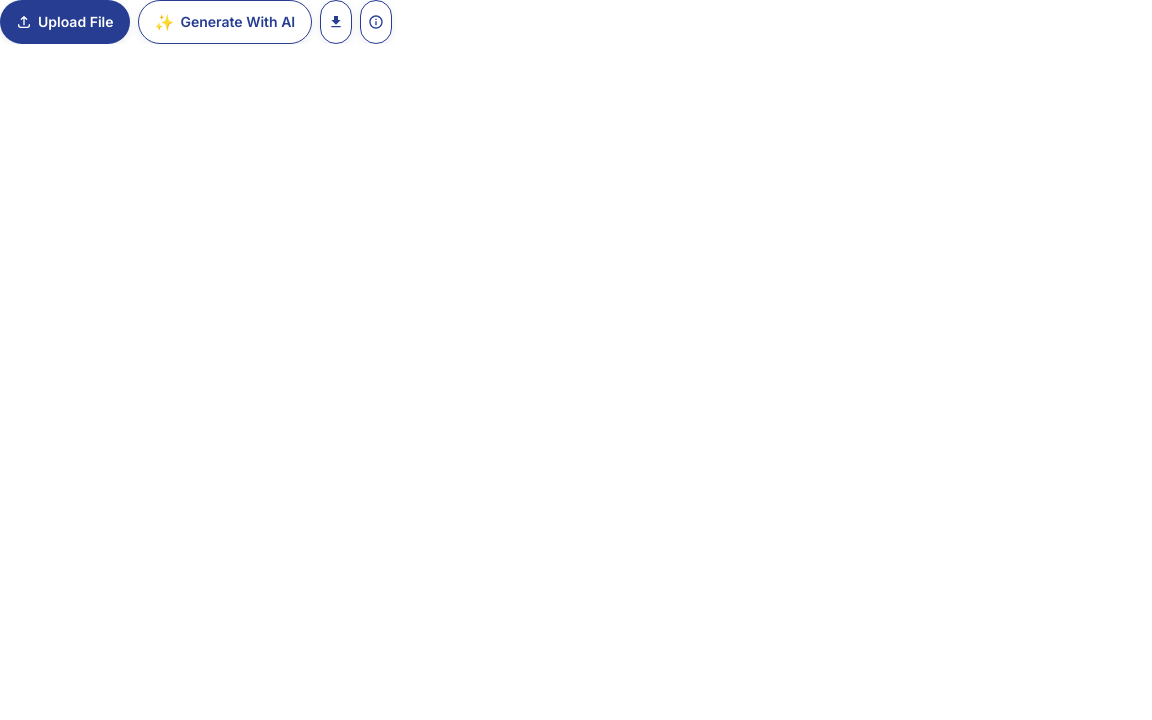
UploadAndGenerateHeader uploaded files › lists every file with its counts in a modal that can be closed
The width and height of the screenshot is (1152, 720).
Click the button named "View uploaded files" at (376, 22), box [360,0,392,44]
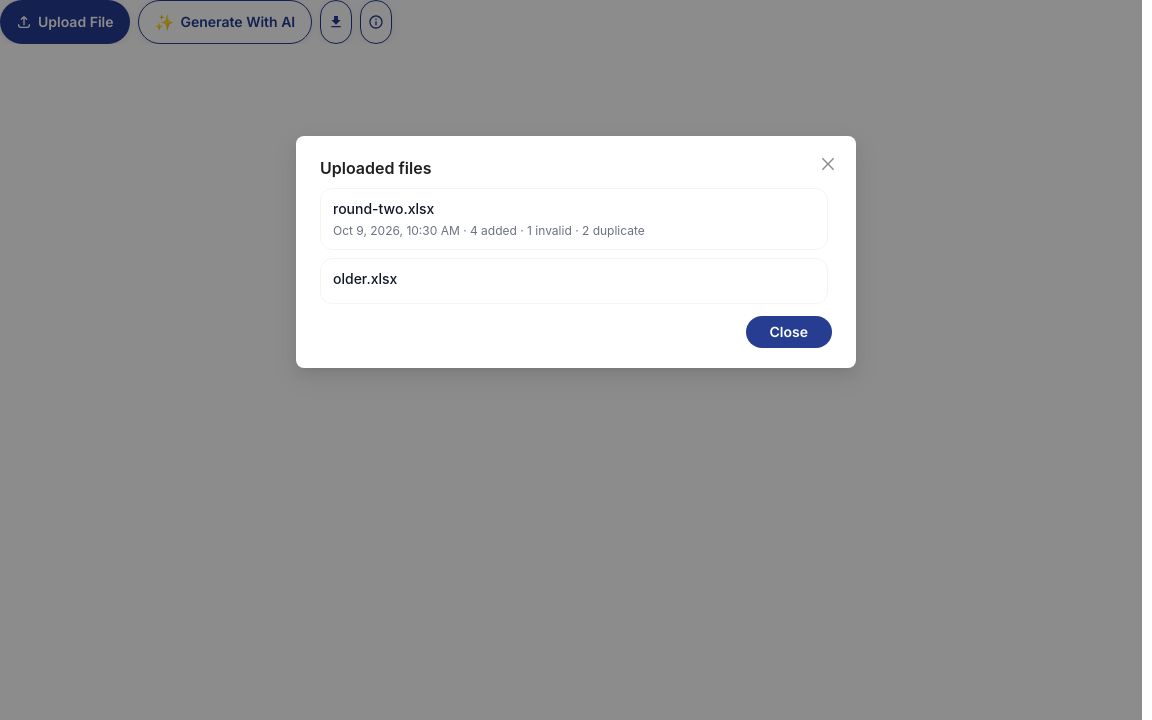
Expected: the text "round-two.xlsx" is shown, [333,200,434,217]
Expected: the text "Oct 9, 2026, 10:30 AM · 4 added · 1 invalid · 2 duplicate" is shown, [333,223,645,238]
Expected: the text "older.xlsx" is shown, [333,270,397,287]
Click the button "Close" at (789, 332), box [746,316,832,348]
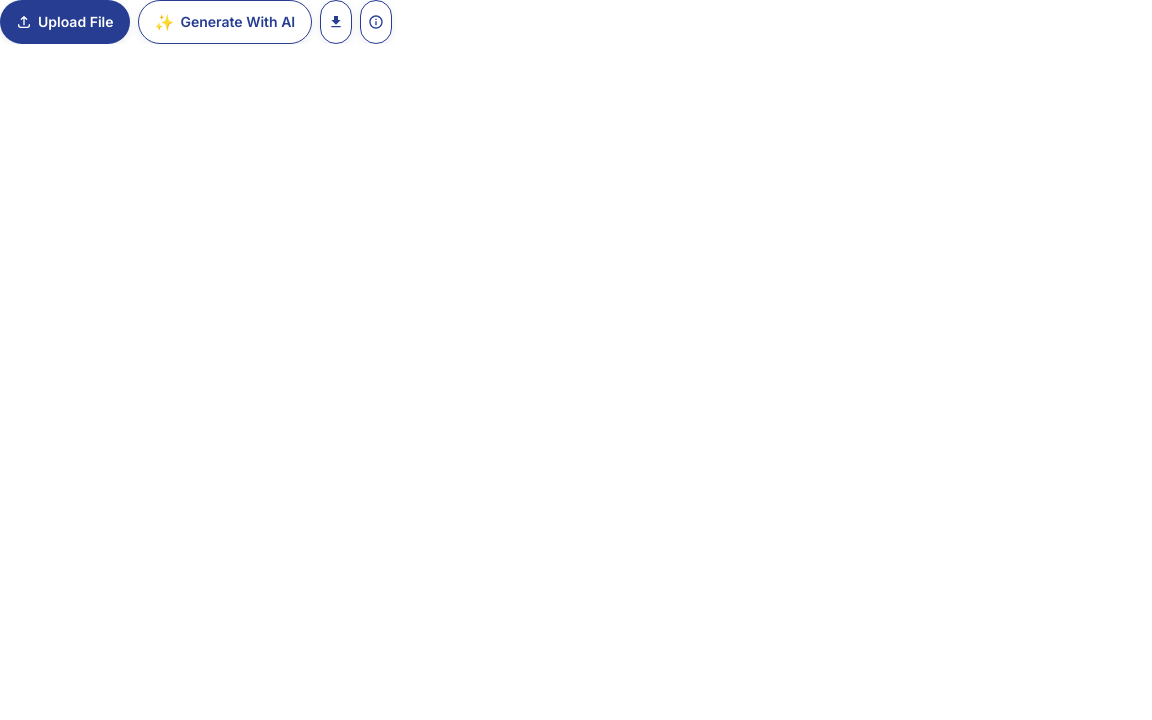
Expected: the text "round-two.xlsx" is gone
